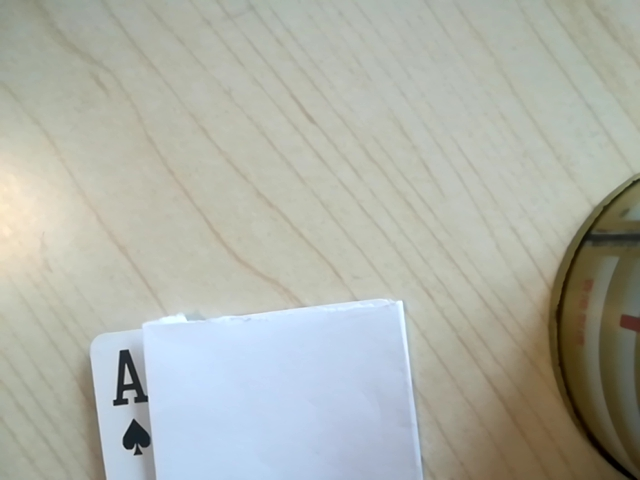ht a: (102, 342, 161, 475)
